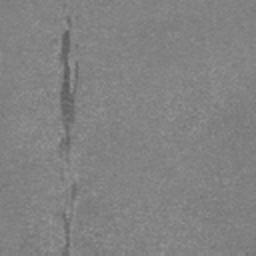Red iron sheet: (59, 30, 79, 153), (61, 212, 70, 256), (71, 184, 78, 200), (66, 16, 72, 27)
